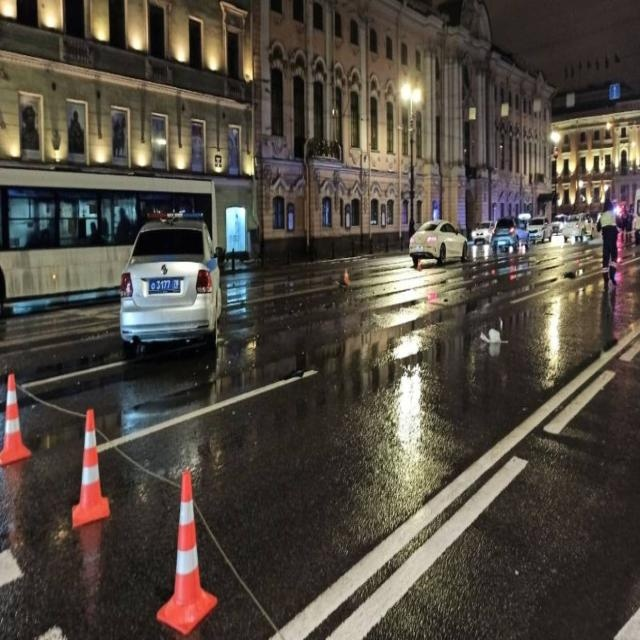Bus: (2, 157, 223, 320)
